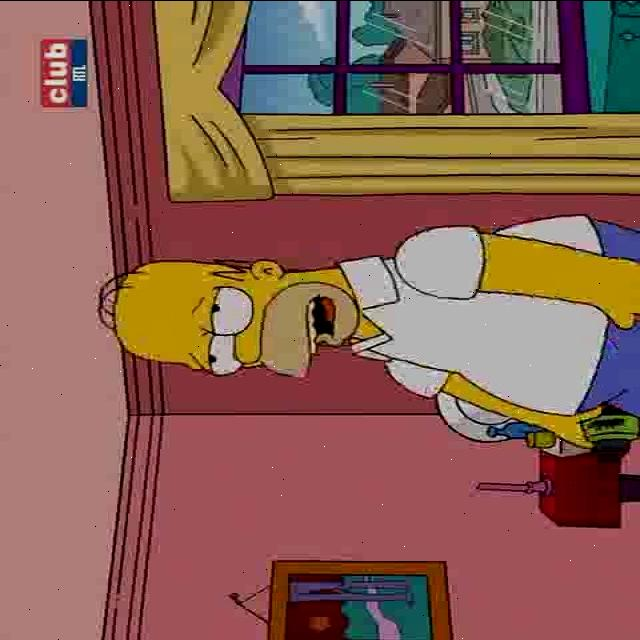Homer Simpson: (94, 255, 364, 381)
